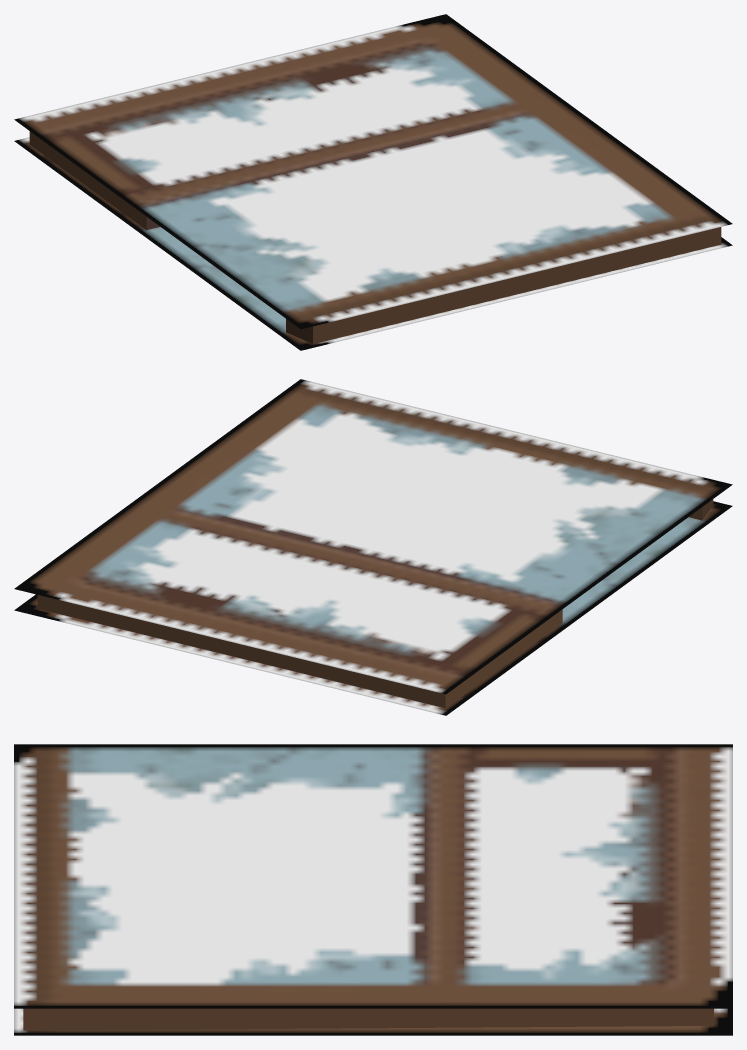
File: pz_native_location_hospitality_sunstarmotel_01_39_frame.obj
3 views of the same model, one above another, from view 1: azimuth 30°, elevation 25°; view 2: azimuth 150°, elevation 25°; view 3: azimuth 270°, elevation 25° (orthographic). The views are drawn at different scales.
Parts seen in each view (by area): view 1: pz_native_location_hospitality_sunstarmotel_01_39_frame; view 2: pz_native_location_hospitality_sunstarmotel_01_39_frame; view 3: pz_native_location_hospitality_sunstarmotel_01_39_frame.
Boxes of the visible parts, x1,y1,x2,y2 form: pz_native_location_hospitality_sunstarmotel_01_39_frame: [14, 14, 732, 350]; pz_native_location_hospitality_sunstarmotel_01_39_frame: [14, 379, 732, 715]; pz_native_location_hospitality_sunstarmotel_01_39_frame: [14, 744, 732, 1035].
Size of the model in its own units: 0.8438 by 0.04 by 0.9696.
1 material, 1 textured.
